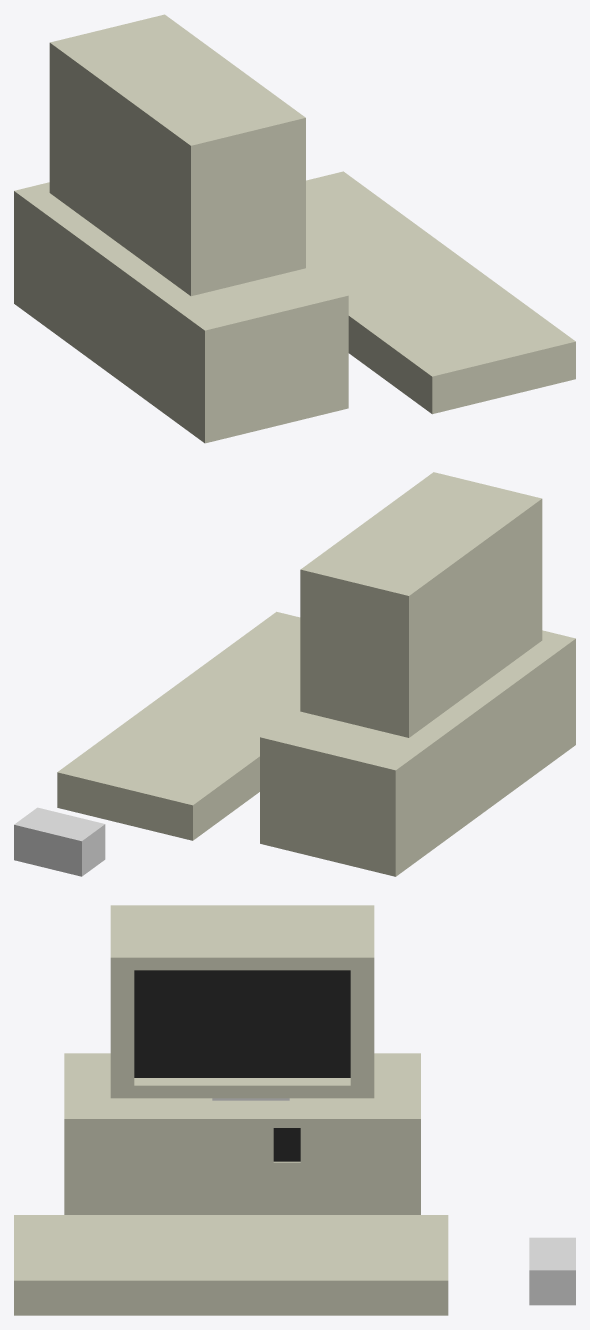
File: computer.fbx
3 renders of one model, top to bottom at view 1: azimuth 30°, elevation 25°; view 2: azimuth 150°, elevation 25°; view 3: azimuth 270°, elevation 25°, orthographic. The views are drawn at different scales.
Visible parts, largest first — view 1: Cube.001, Cube, Keyboard; view 2: Cube.001, Cube, Keyboard, Mouse; view 3: Cube.001, Cube, Keyboard, Mouse.
Boxes of the visible parts, x1=… form: Cube.001: x1=49, y1=14, x2=305, y2=296; Cube: x1=14, y1=182, x2=348, y2=443; Keyboard: x1=306, y1=171, x2=575, y2=414; Cube.001: x1=300, y1=472, x2=542, y2=737; Cube: x1=260, y1=630, x2=575, y2=876; Keyboard: x1=57, y1=611, x2=300, y2=840; Mouse: x1=14, y1=807, x2=105, y2=876; Cube.001: x1=110, y1=905, x2=374, y2=1098; Cube: x1=64, y1=1053, x2=420, y2=1214; Keyboard: x1=14, y1=1215, x2=448, y2=1315; Mouse: x1=529, y1=1237, x2=575, y2=1305.
Size of the model in its own units: 47.87 by 36.78 by 72.47.
